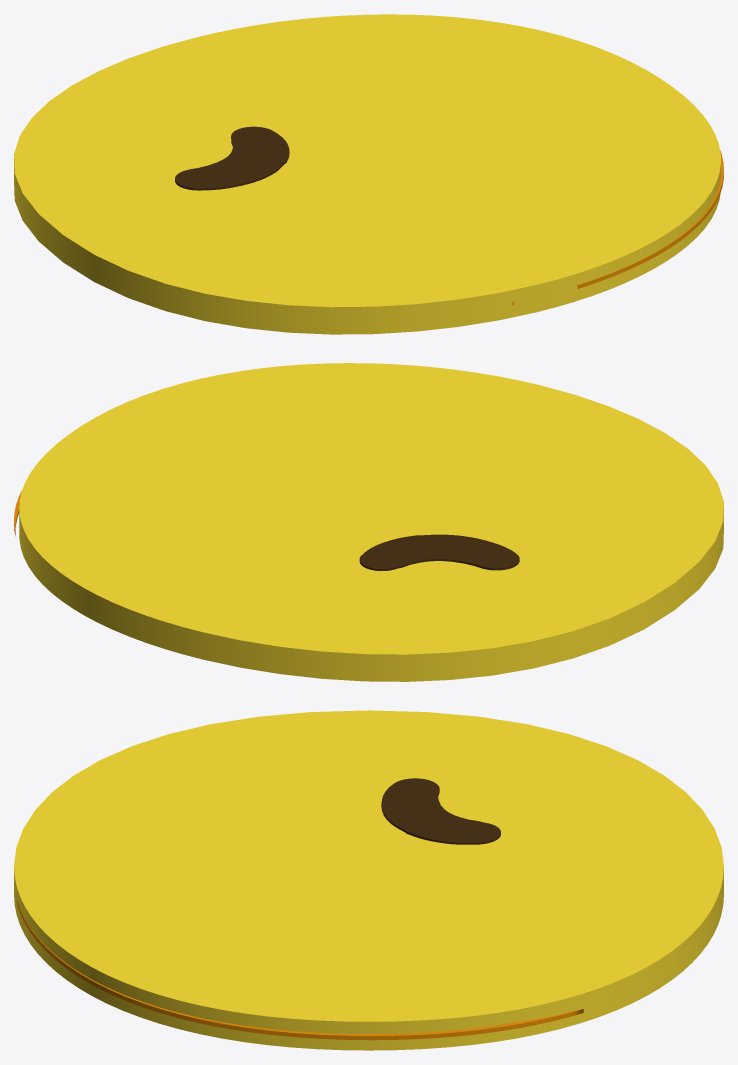
File: emoji_u1f629.glb
3 renders of one model, top to bottom at view 1: azimuth 30°, elevation 25°; view 2: azimuth 150°, elevation 25°; view 3: azimuth 270°, elevation 25°, orthographic. The views are drawn at different scales.
Parts seen in each view (by area): view 1: emoji_u1f629; view 2: emoji_u1f629; view 3: emoji_u1f629.
Boxes of the visible parts, <box> form: emoji_u1f629: <box>14,14,723,334</box>; emoji_u1f629: <box>14,363,723,681</box>; emoji_u1f629: <box>14,710,723,1050</box>.
Size of the model in its own units: 0.0327 by 0.0016 by 0.0314.
